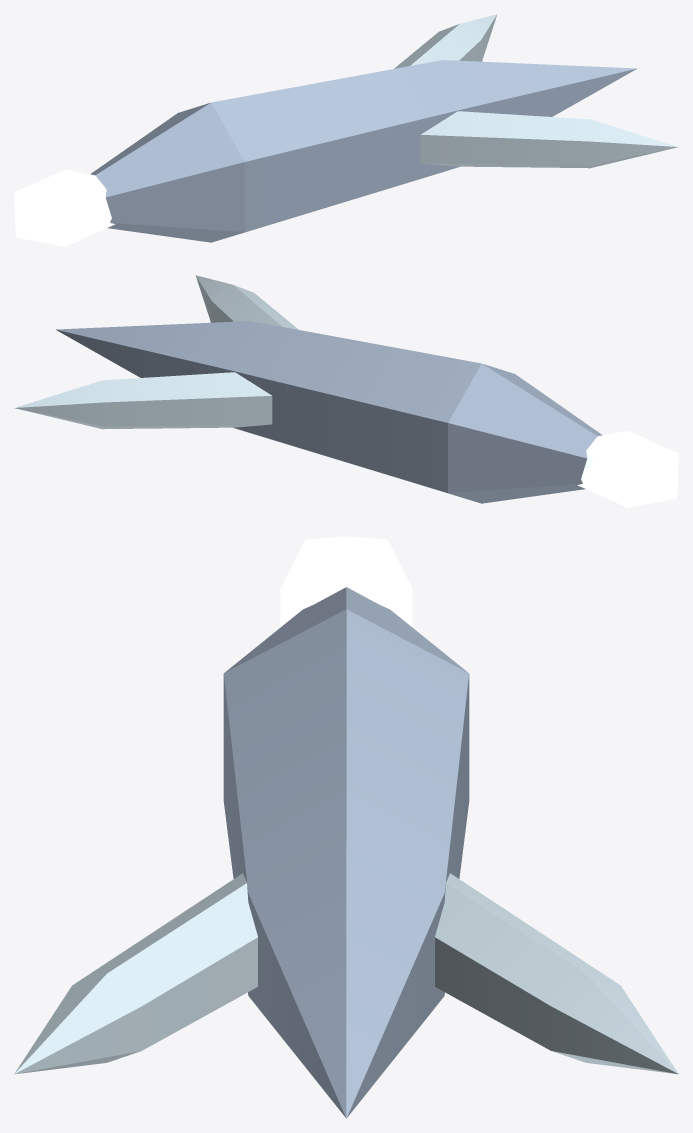
File: crystal_small.glb
The picture shows the model from 3 angles, top to bottom: view 1: azimuth 30°, elevation 25°; view 2: azimuth 150°, elevation 25°; view 3: azimuth 270°, elevation 25°; orthographic projection. The views are drawn at different scales.
Parts seen in each view (by area): view 1: crystal_small; view 2: crystal_small; view 3: crystal_small.
Part boxes in pixels (box(x1,y1,x2,y2)): crystal_small: box(14, 14, 678, 246); crystal_small: box(14, 275, 678, 507); crystal_small: box(14, 536, 678, 1118).
Size of the model in its own units: 1 by 0.2154 by 0.5055.
